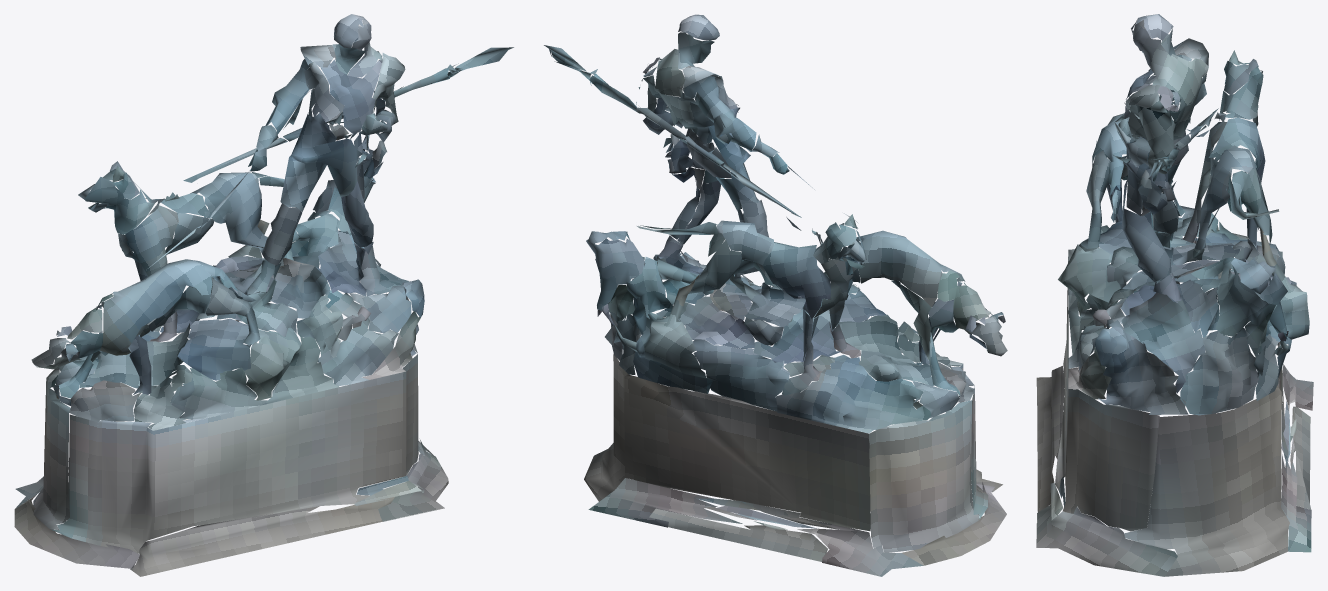
3 renders of one model, left to right at view 1: azimuth 30°, elevation 25°; view 2: azimuth 150°, elevation 25°; view 3: azimuth 270°, elevation 25°, orthographic. The views are drawn at different scales.
Parts seen in each view (by area): view 1: Object_2.007; view 2: Object_2.007; view 3: Object_2.007.
Boxes of the visible parts, x1,y1,x2,y2 form: Object_2.007: (14, 14, 513, 576); Object_2.007: (544, 14, 1007, 576); Object_2.007: (1036, 14, 1313, 576).
Bounding box in the file's own units: 3.41 × 3.17 × 1.54.
1 material, 1 textured.
